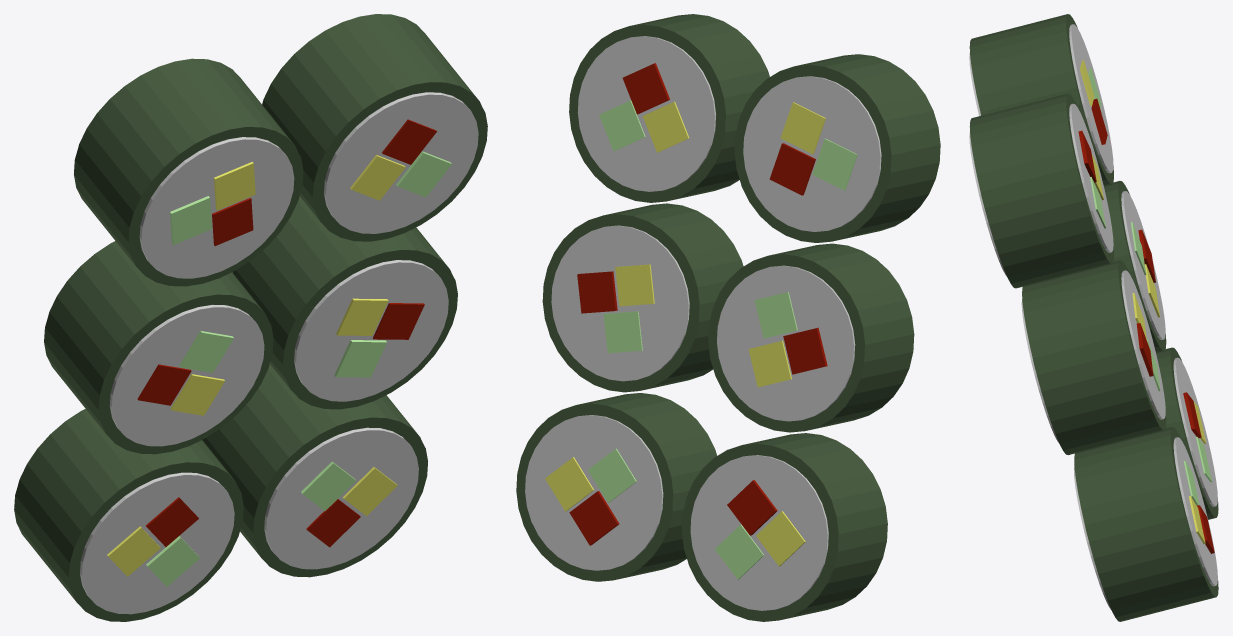
File: food_4_sushi.fbx
The picture shows the model from 3 angles, left to right: view 1: azimuth 30°, elevation 25°; view 2: azimuth 150°, elevation 25°; view 3: azimuth 270°, elevation 25°; orthographic projection. The views are drawn at different scales.
Parts seen in each view (by area): view 1: food_sushi; view 2: food_sushi; view 3: food_sushi.
Boxes of the visible parts, box(x1,y1,x2,y2) form: food_sushi: box(14, 14, 487, 621); food_sushi: box(516, 14, 940, 621); food_sushi: box(969, 14, 1218, 621).
Bounding box in the file's own units: 72.67 × 113 × 49.74.
